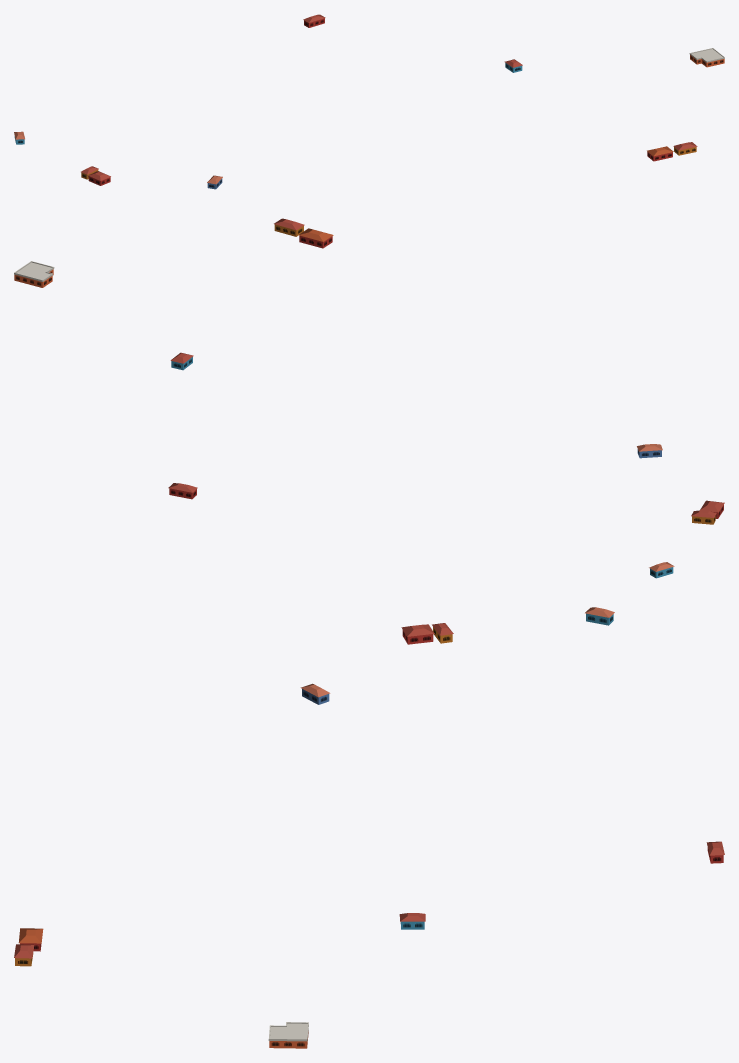
File: msb_oranjestad_m12_m4.glb
The picture shows the model from 3 angles, top to bottom: view 1: azimuth 30°, elevation 25°; view 2: azimuth 150°, elevation 25°; view 3: azimuth 270°, elevation 25°; orthographic projection. The views are drawn at different scales.
Visible parts, largest first — view 1: msb_oranjestad_m12_m4_lod0; view 2: msb_oranjestad_m12_m4_lod0; view 3: msb_oranjestad_m12_m4_lod0.
Part boxes in pixels (x1=…): msb_oranjestad_m12_m4_lod0: x1=14, y1=14, x2=724, y2=189; msb_oranjestad_m12_m4_lod0: x1=14, y1=218, x2=724, y2=578; msb_oranjestad_m12_m4_lod0: x1=14, y1=607, x2=724, y2=1048.
Size of what is drawn, in the model's own units: 405 by 13.24 by 270.
Materials: 3 (1 with a texture image).
